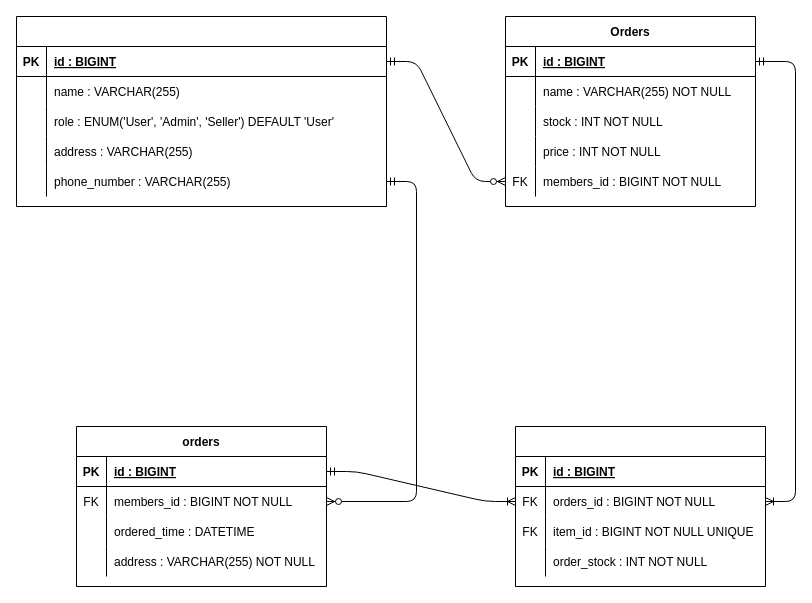
Image size: 812x603. Some labels were removed from this diagram. Each missing label, with the box of its shape:
members: (16, 16, 386, 206)
orders_detail: (514, 426, 766, 586)
